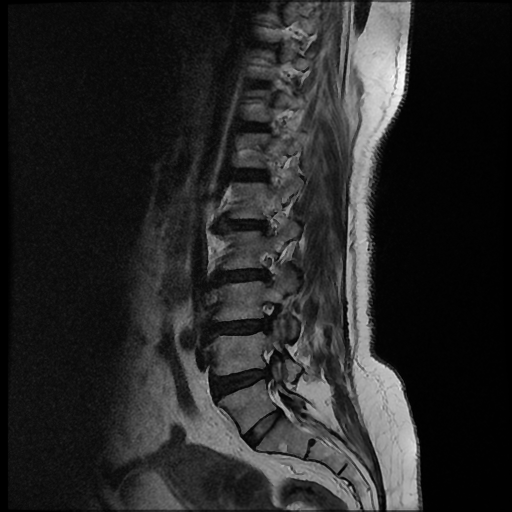RFS1: (251, 241, 286, 291)
RFS2: (249, 292, 284, 342)
